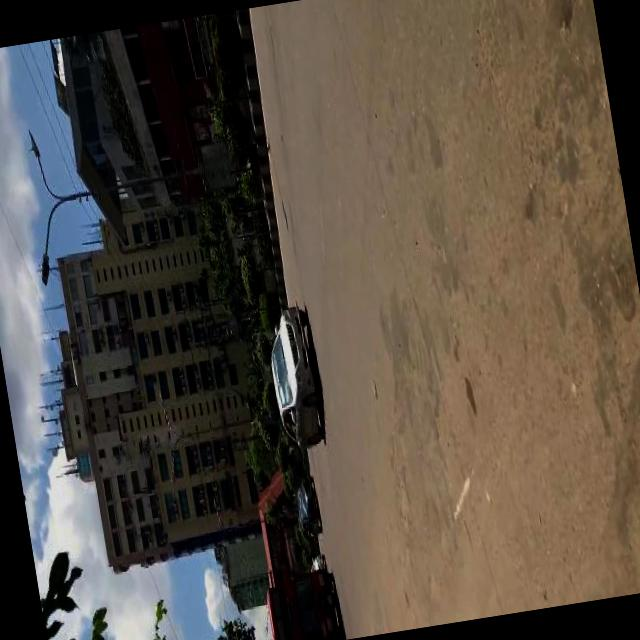bus: (261, 564, 346, 640)
car: (259, 293, 332, 450), (292, 471, 322, 539)
